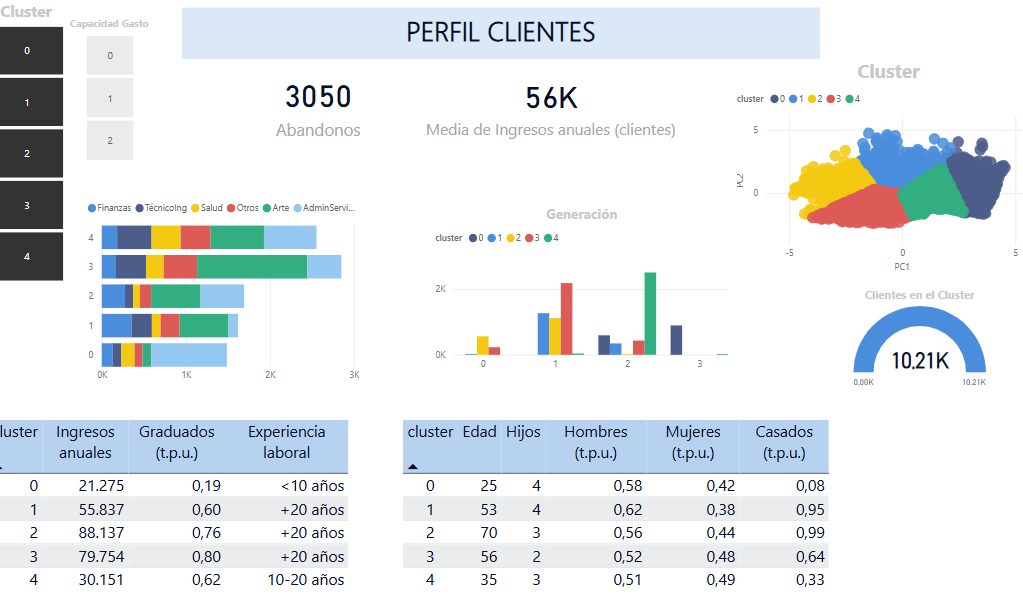

Layout of this report page (visuals, bound fields, positions):
{"tool":"powerbi","page":{"name":"Perfil Clientes","canvas":[1280,720],"ordinal":0},"visuals":[{"type":"slicer","title":"Cluster","fields":{"Values":["cluster.cluster"]},"box":[0,0,135.8,341.2],"z":0},{"type":"tableEx","fields":{"Values":["cluster.cluster","Avg(cluster.Edad)","Avg(cluster.Family_Size)","cluster.% Hombres","cluster.% Mujeres","cluster.% Casados"]},"box":[511.1,494.4,542.6,225.9],"z":1000},{"type":"actionButton","box":[0,0,100,40],"z":2000},{"type":"clusteredColumnChart","title":"Generación","fields":{"Category":["cluster.Generacion"],"Series":["cluster.cluster"],"Y":["CountNonNull(cluster.cluster)"]},"box":[550,242.6,359.3,207.4],"z":3000},{"type":"tableEx","fields":{"Values":["cluster.cluster","Avg(cluster.Ingresos_anuales_brutos)","cluster.% Graduados","cluster.Experiencia laboral dominante"]},"box":[18.5,494.4,472.2,225.9],"z":4000},{"type":"barChart","fields":{"Category":["cluster.cluster"],"Y":["cluster.Finanzas","cluster.TécnicoIng","cluster.Salud","cluster.Otros","cluster.Arte","cluster.AdminServicios"]},"box":[135.2,227.8,333.3,235.2],"z":5000},{"type":"slicer","title":"Capacidad Gasto","fields":{"Values":["cluster.Gastoscore"]},"box":[114.8,20.4,105.6,177.8],"z":6000},{"type":"scatterChart","title":"Cluster","fields":{"Y":["cluster.PC2"],"X":["cluster.PC1"],"Series":["cluster.cluster"]},"box":[909.3,70.4,370.4,259.3],"z":7000},{"type":"gauge","title":"Clientes en el Cluster","fields":{"Y":["CountNonNull(cluster.cluster)"]},"box":[1038.9,340.7,185.2,127.8],"z":8000},{"type":"card","fields":{"Values":["Sum(cluster.Abandono)"]},"box":[279.6,68.5,270.4,113],"z":9000},{"type":"card","fields":{"Values":["Avg(cluster.Ingresos_anuales_brutos)"]},"box":[527.8,77.8,327.8,92.6],"z":10000},{"type":"textbox","box":[253.7,9.3,759.3,61.1],"z":11000}]}

Visuals, with their boxes on the page's 1280x720 design canvas (x1, y1, x2, y2). These are canvas units, not pixel positions in the 1023x595 screenshot, which may show the page scaled, cropped or inside an application window:
"Cluster" slicer: 0/0/136/341
tableEx - cluster.cluster x Avg(cluster.Edad): 511/494/1054/720
actionButton: 0/0/100/40
"Generación" clusteredColumnChart: 550/243/909/450
tableEx - cluster.cluster x Avg(cluster.Ingresos_anuales_brutos): 18/494/491/720
barChart - cluster.cluster x cluster.Finanzas: 135/228/468/463
"Capacidad Gasto" slicer: 115/20/220/198
"Cluster" scatterChart: 909/70/1280/330
"Clientes en el Cluster" gauge: 1039/341/1224/468
card - Sum(cluster.Abandono): 280/68/550/182
card - Avg(cluster.Ingresos_anuales_brutos): 528/78/856/170
textbox: 254/9/1013/70
